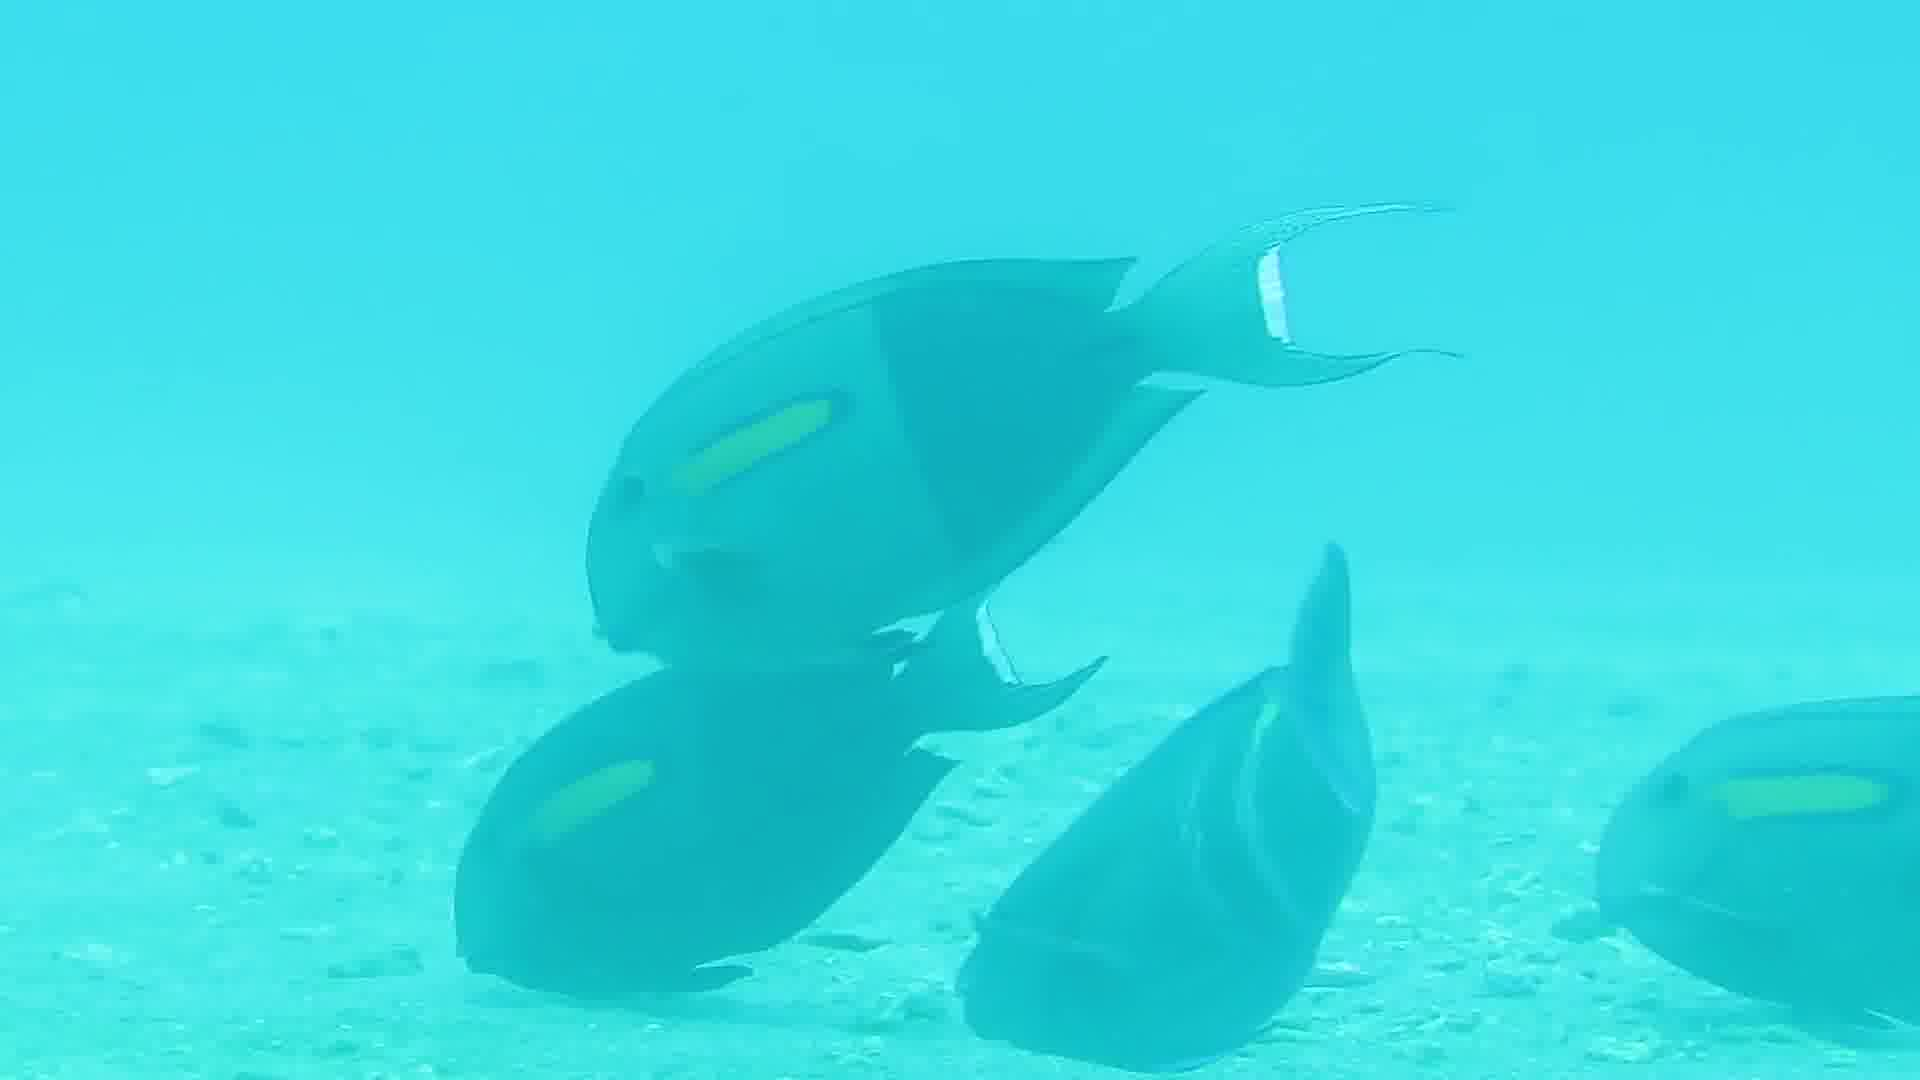Acanthurus olivaceus: (545, 167, 1497, 636), (464, 620, 989, 1080), (961, 622, 1466, 1080), (1600, 622, 1920, 1080)
